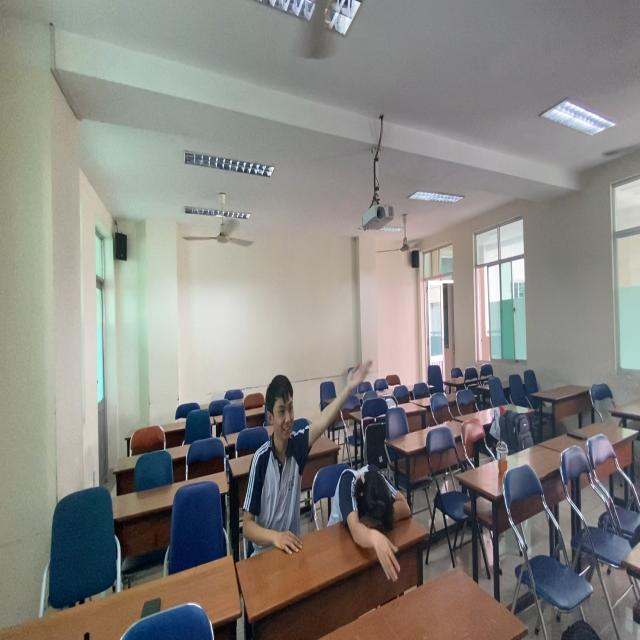sleep: (337, 466, 413, 583)
